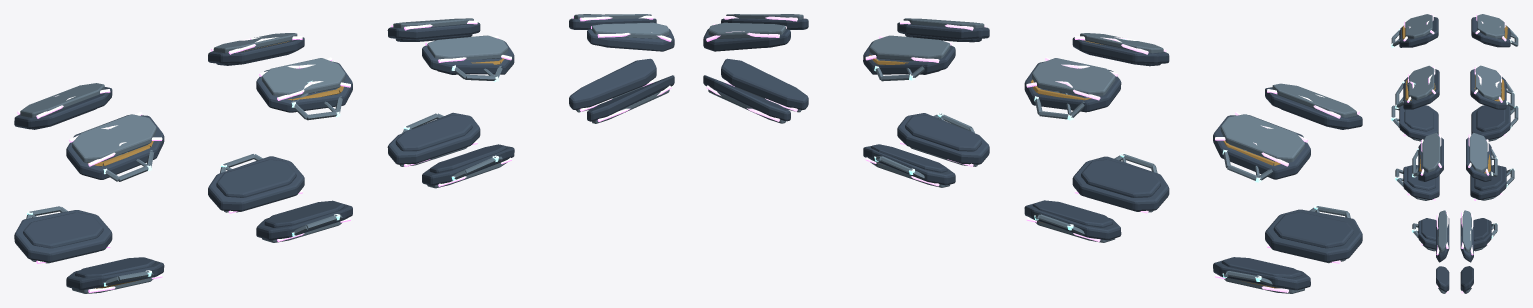
Rendered from plating.glb.
3 renders of one model, left to right at view 1: azimuth 30°, elevation 25°; view 2: azimuth 150°, elevation 25°; view 3: azimuth 270°, elevation 25°, orthographic. The views are drawn at different scales.
Visible parts, largest first — view 1: p_heavy Fitting gunmetal, p_heavy Brushed fitting edges, p_aegis Fitting gunmetal, p_light Brushed fitting edges, p_heavy p_heavy emitter, p_aegis Champagne gold edging; view 2: p_heavy Fitting gunmetal, p_heavy Brushed fitting edges, p_aegis Fitting gunmetal, p_light Brushed fitting edges, p_heavy p_heavy emitter, p_aegis Champagne gold edging; view 3: p_heavy Fitting gunmetal, p_heavy Brushed fitting edges, p_aegis Fitting gunmetal, p_light Brushed fitting edges, p_heavy p_heavy emitter, p_aegis Champagne gold edging, p_light p_light emitter.
Boxes of the visible parts, x1=… form: p_heavy Fitting gunmetal: x1=14, y1=18, x2=674, y2=290; p_heavy Brushed fitting edges: x1=20, y1=14, x2=669, y2=293; p_aegis Fitting gunmetal: x1=23, y1=34, x2=506, y2=277; p_light Brushed fitting edges: x1=26, y1=66, x2=502, y2=285; p_heavy p_heavy emitter: x1=17, y1=15, x2=671, y2=292; p_aegis Champagne gold edging: x1=88, y1=41, x2=504, y2=288; p_heavy Fitting gunmetal: x1=703, y1=18, x2=1362, y2=290; p_heavy Brushed fitting edges: x1=708, y1=14, x2=1356, y2=293; p_aegis Fitting gunmetal: x1=871, y1=34, x2=1353, y2=278; p_light Brushed fitting edges: x1=875, y1=65, x2=1350, y2=285; p_heavy p_heavy emitter: x1=706, y1=16, x2=1359, y2=292; p_aegis Champagne gold edging: x1=869, y1=40, x2=1280, y2=288; p_heavy Fitting gunmetal: x1=1399, y1=17, x2=1510, y2=291; p_heavy Brushed fitting edges: x1=1405, y1=14, x2=1504, y2=293; p_aegis Fitting gunmetal: x1=1404, y1=42, x2=1505, y2=240; p_light Brushed fitting edges: x1=1391, y1=29, x2=1518, y2=237; p_heavy p_heavy emitter: x1=1403, y1=14, x2=1506, y2=293; p_aegis Champagne gold edging: x1=1402, y1=26, x2=1507, y2=173; p_light p_light emitter: x1=1391, y1=28, x2=1518, y2=238.
Size of the model in its own units: 45.2 by 12.04 by 11.64.
